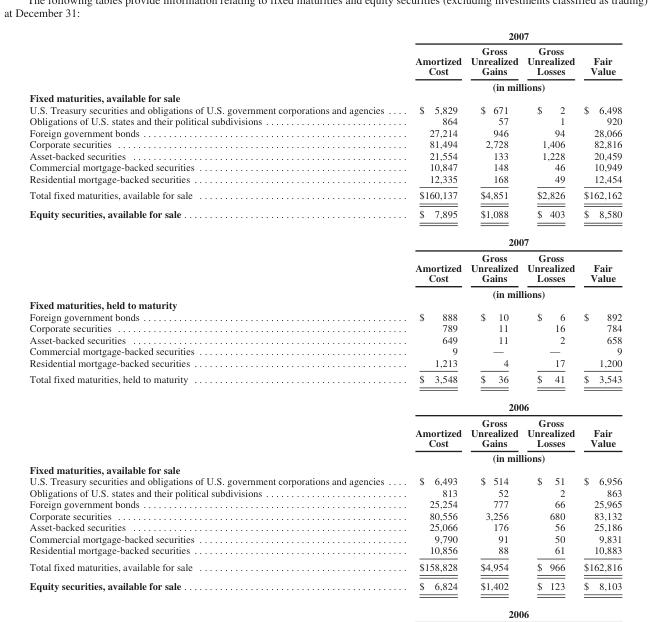table: (28, 29, 621, 591)
table column: (28, 29, 399, 591), (399, 29, 465, 591), (465, 29, 522, 591), (522, 29, 578, 591), (578, 29, 621, 591)
table column header: (28, 29, 621, 91)
table projected row header: (28, 91, 621, 103), (28, 298, 621, 310), (28, 463, 621, 475)
table row: (28, 42, 621, 78), (28, 249, 621, 285), (28, 414, 621, 450), (28, 204, 621, 227), (28, 227, 621, 249), (28, 370, 621, 392), (28, 392, 621, 414), (28, 186, 621, 204), (28, 558, 621, 575), (28, 575, 621, 591), (28, 172, 621, 186), (28, 356, 621, 370), (28, 544, 621, 558), (28, 29, 621, 42), (28, 78, 621, 91), (28, 285, 621, 298), (28, 450, 621, 463), (28, 91, 621, 103), (28, 114, 621, 126), (28, 137, 621, 149), (28, 160, 621, 172), (28, 298, 621, 310), (28, 321, 621, 333), (28, 344, 621, 356), (28, 463, 621, 475), (28, 486, 621, 498), (28, 509, 621, 521), (28, 532, 621, 544), (28, 103, 621, 114), (28, 126, 621, 137), (28, 149, 621, 160), (28, 310, 621, 321), (28, 333, 621, 344), (28, 475, 621, 486), (28, 498, 621, 509), (28, 521, 621, 532)
table spanning cell: (399, 227, 621, 249), (399, 392, 621, 414), (399, 29, 621, 42), (399, 78, 621, 91), (399, 285, 621, 298), (399, 450, 621, 463)
